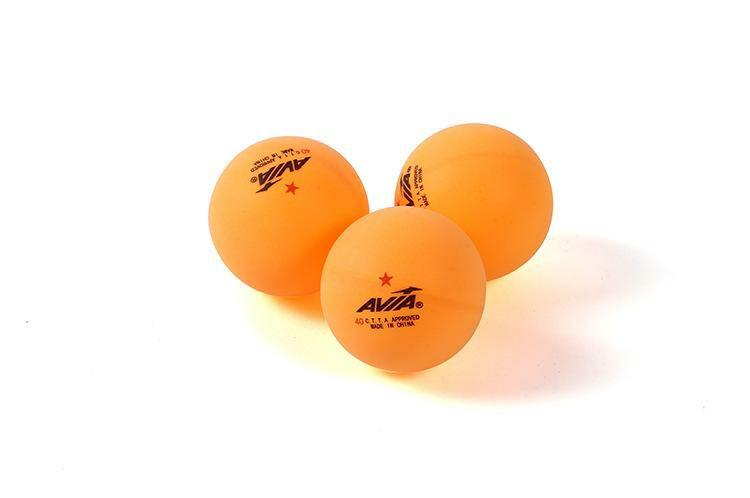ball: (316, 202, 488, 374), (202, 131, 373, 303), (388, 118, 556, 285)
